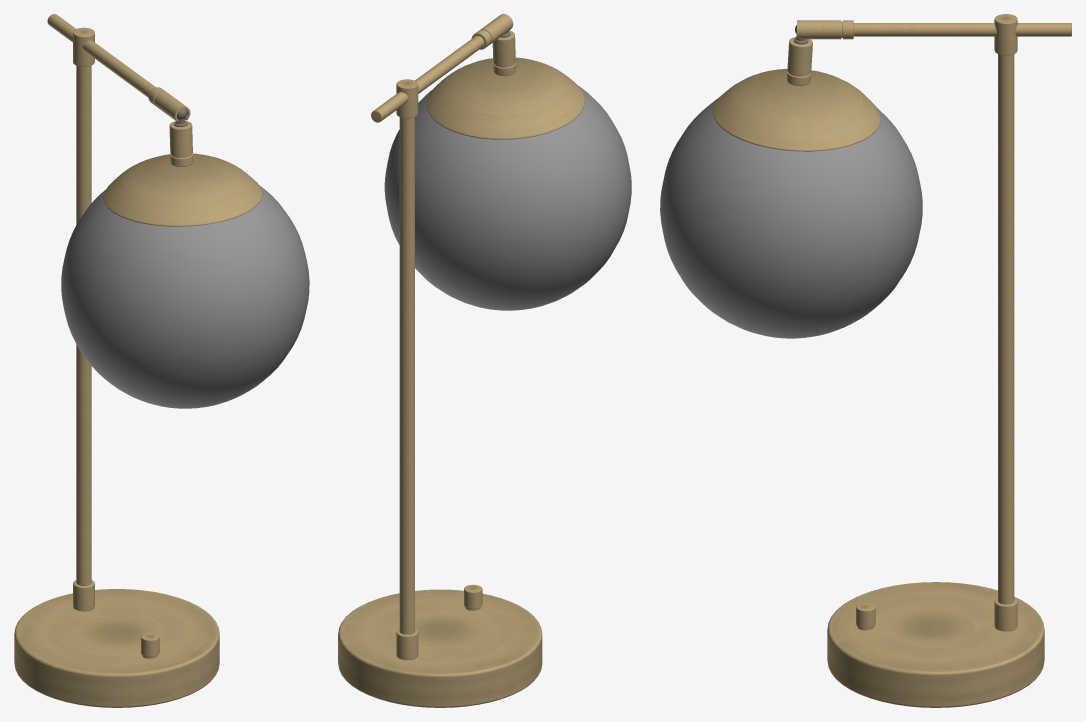
File: B07DTFBDTL.glb
The picture shows the model from 3 angles, left to right: view 1: azimuth 30°, elevation 25°; view 2: azimuth 150°, elevation 25°; view 3: azimuth 270°, elevation 25°; orthographic projection. The views are drawn at different scales.
Parts seen in each view (by area): view 1: Root; view 2: Root; view 3: Root.
Boxes of the visible parts, bbox=[...] form: Root: bbox=[14, 14, 309, 707]; Root: bbox=[338, 14, 631, 707]; Root: bbox=[660, 14, 1071, 707].
Bounding box in the file's own units: 0.2065 × 0.5588 × 0.3235.
Materials: 1 (1 with a texture image).
